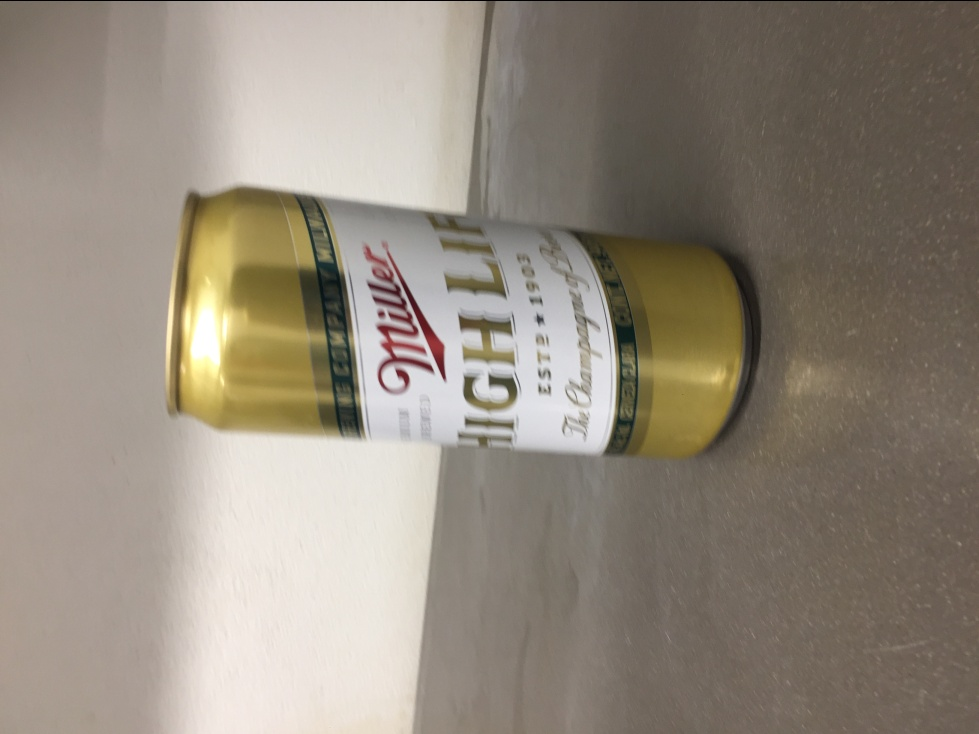miller: (159, 179, 760, 468)
